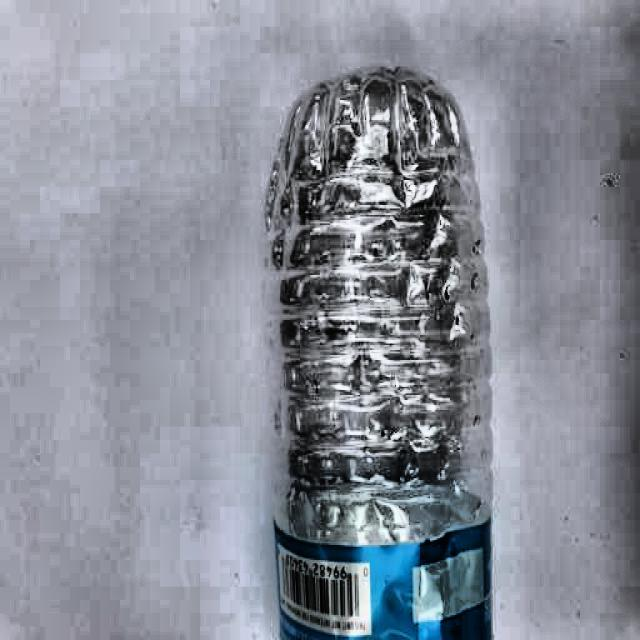plastic: (261, 66, 502, 640)
